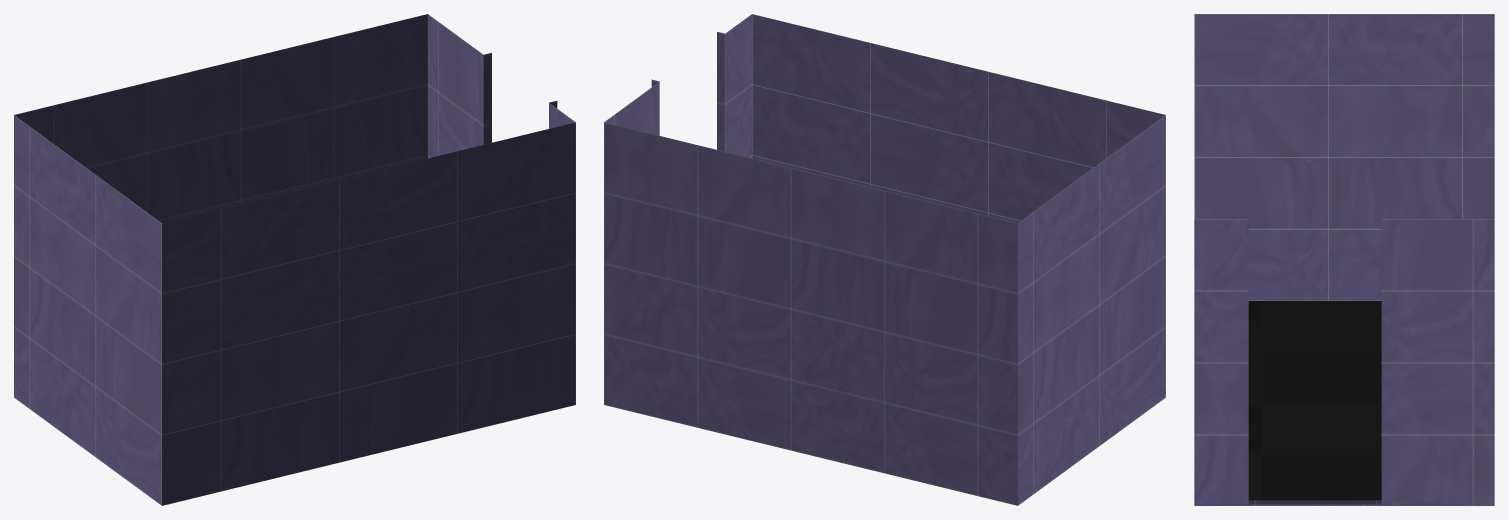
File: frame.obj
3 renders of one model, left to right at view 1: azimuth 30°, elevation 25°; view 2: azimuth 150°, elevation 25°; view 3: azimuth 270°, elevation 25°, orthographic.
Parts seen in each view (by area): view 1: obj2; view 2: obj2; view 3: obj2, obj1.
Part boxes in pixels (x1,y1,x2,y2): obj2: (14, 14, 575, 505); obj2: (604, 14, 1165, 505); obj2: (1194, 14, 1494, 505); obj1: (1248, 301, 1381, 500).
Size of the model in its own units: 21.65 by 13.86 by 13.14.
